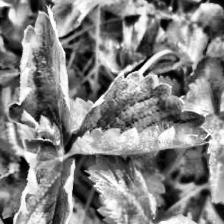Powdery Mildew Leaf: (68, 71, 212, 156), (5, 4, 71, 148), (3, 137, 76, 224)
